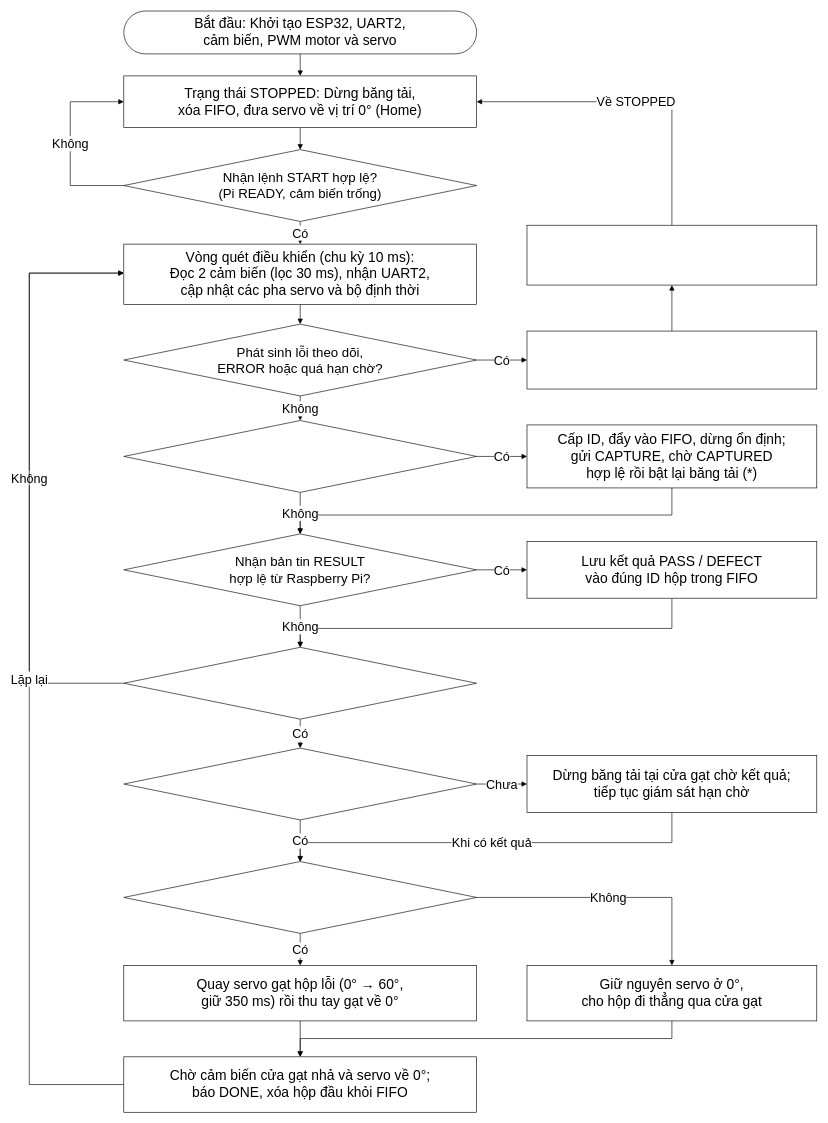
Some shapes in this 828 by 1123 pixel diagram are drawn without their labels. Here are the shapes that lost their labels. From the top down, the centre of each, then its label:
At (x=671, y=255): "Người vận hành dọn hết hộp; gửi lệnh STOP để khôi phục".
At (x=671, y=359): "Trạng thái FAULT: Dừng băng tải, giữ nguyên tay gạt, báo lỗi về Pi".
At (x=300, y=456): "Cảm biến chụp phát hiện hộp mới vào buồng chụp?".
At (x=300, y=683): "Cảm biến cửa gạt phát hiện hộp đầu hàng đợi FIFO?".
At (x=300, y=783): "Hộp đầu FIFO đã có kết quả kiểm định AI?".
At (x=300, y=897): "Kết quả là DEFECT và bật chế độ gạt (SORT)?".
